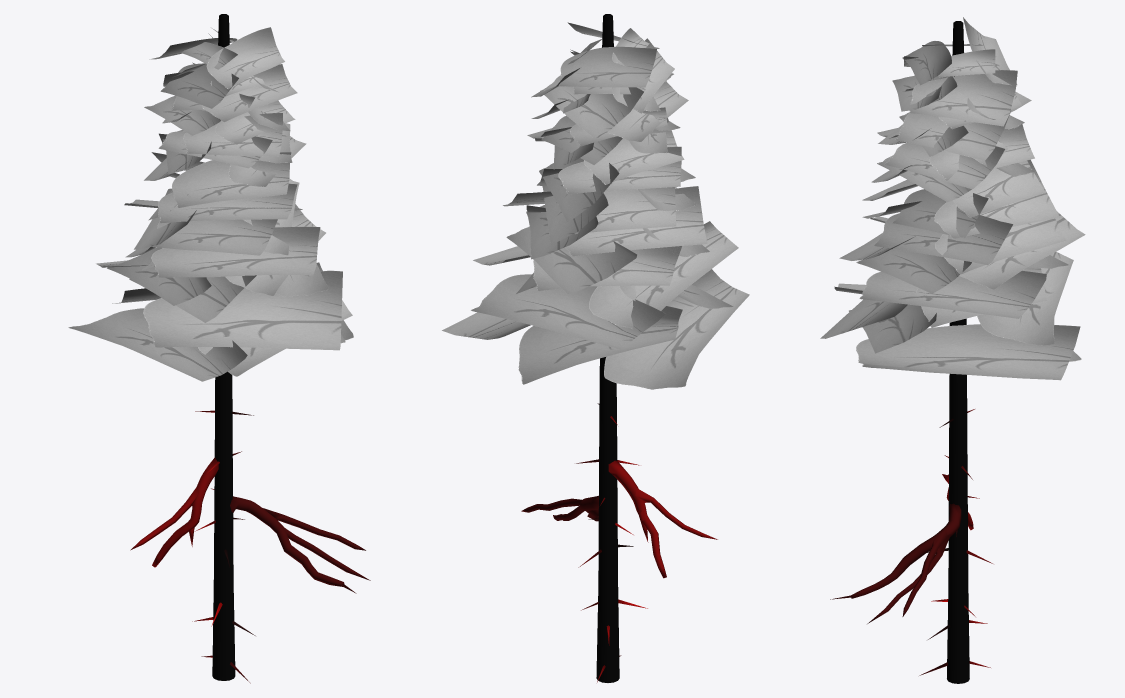
File: M_Pine_5_9.fbx
3 views of the same model, side by side, from view 1: azimuth 30°, elevation 25°; view 2: azimuth 150°, elevation 25°; view 3: azimuth 270°, elevation 25° (orthographic).
Visible parts, largest first — view 1: Mobile_Pine_9; view 2: Mobile_Pine_9; view 3: Mobile_Pine_9.
Boxes of the visible parts, bbox=[...] form: Mobile_Pine_9: bbox=[68, 14, 370, 683]; Mobile_Pine_9: bbox=[442, 14, 749, 682]; Mobile_Pine_9: bbox=[820, 17, 1085, 683].
Bounding box in the file's own units: 1722 × 3506 × 1528.
